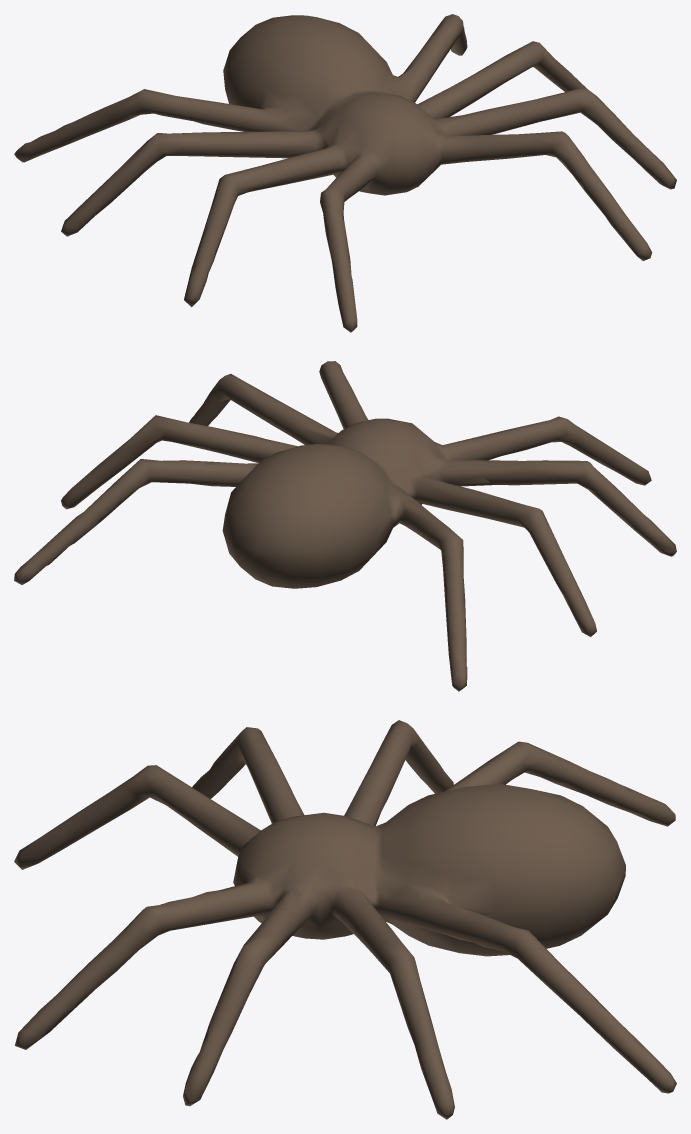
File: NEW_RECOVERY_008_LOD2.glb
3 views of the same model, one above another, from view 1: azimuth 30°, elevation 25°; view 2: azimuth 150°, elevation 25°; view 3: azimuth 270°, elevation 25° (orthographic). The views are drawn at different scales.
Parts seen in each view (by area): view 1: NEW_RECOVERY_008_spider_LOD2; view 2: NEW_RECOVERY_008_spider_LOD2; view 3: NEW_RECOVERY_008_spider_LOD2.
Part boxes in pixels (x1,y1,x2,y2): NEW_RECOVERY_008_spider_LOD2: (14,14,676,332); NEW_RECOVERY_008_spider_LOD2: (14,361,676,691); NEW_RECOVERY_008_spider_LOD2: (14,720,676,1119).
Bounding box in the file's own units: 3.42 × 0.8041 × 2.92.
